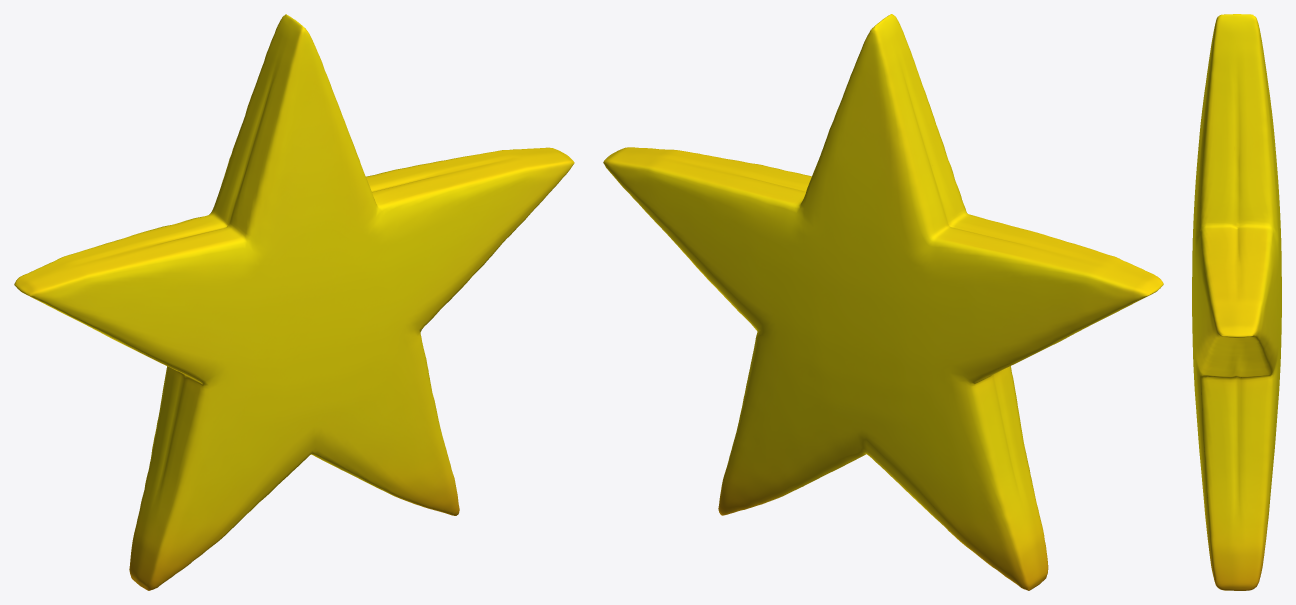
The model's file is generated_3d_1746140801660_base_basic_pbr.glb.
3 renders of one model, left to right at view 1: azimuth 30°, elevation 25°; view 2: azimuth 150°, elevation 25°; view 3: azimuth 270°, elevation 25°, orthographic. The views are drawn at different scales.
Parts seen in each view (by area): view 1: model; view 2: model; view 3: model.
Part boxes in pixels (x1,y1,x2,y2): model: [14, 14, 574, 590]; model: [603, 14, 1163, 590]; model: [1192, 14, 1281, 590].
Bounding box in the file's own units: 1.9 × 1.75 × 0.2828.
1 material, 1 textured.
